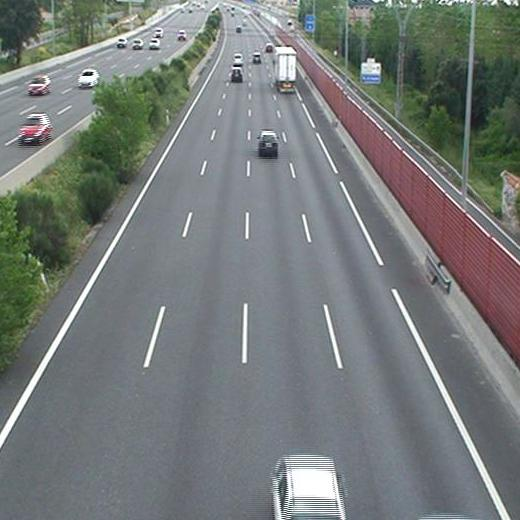car: (272, 456, 347, 520), (259, 133, 279, 153), (232, 69, 242, 81), (232, 54, 243, 63), (266, 42, 274, 53), (252, 54, 260, 63)
truck: (274, 47, 295, 92)
